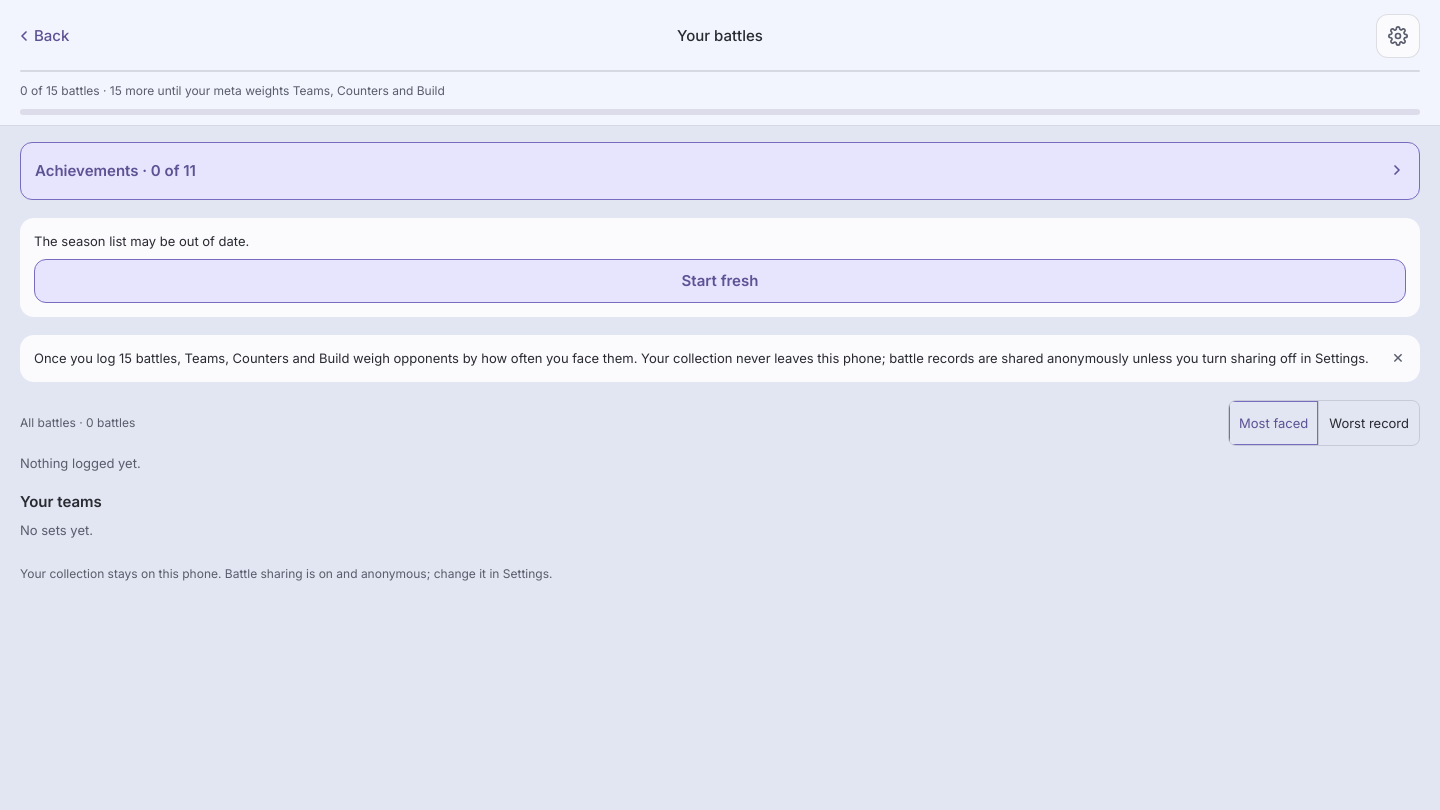
Test: Your battles screen › confirms Start fresh in a sheet with the default tone, then moves the battles
Click the button "Start fresh" at (720, 281), box [34, 259, 1406, 303]
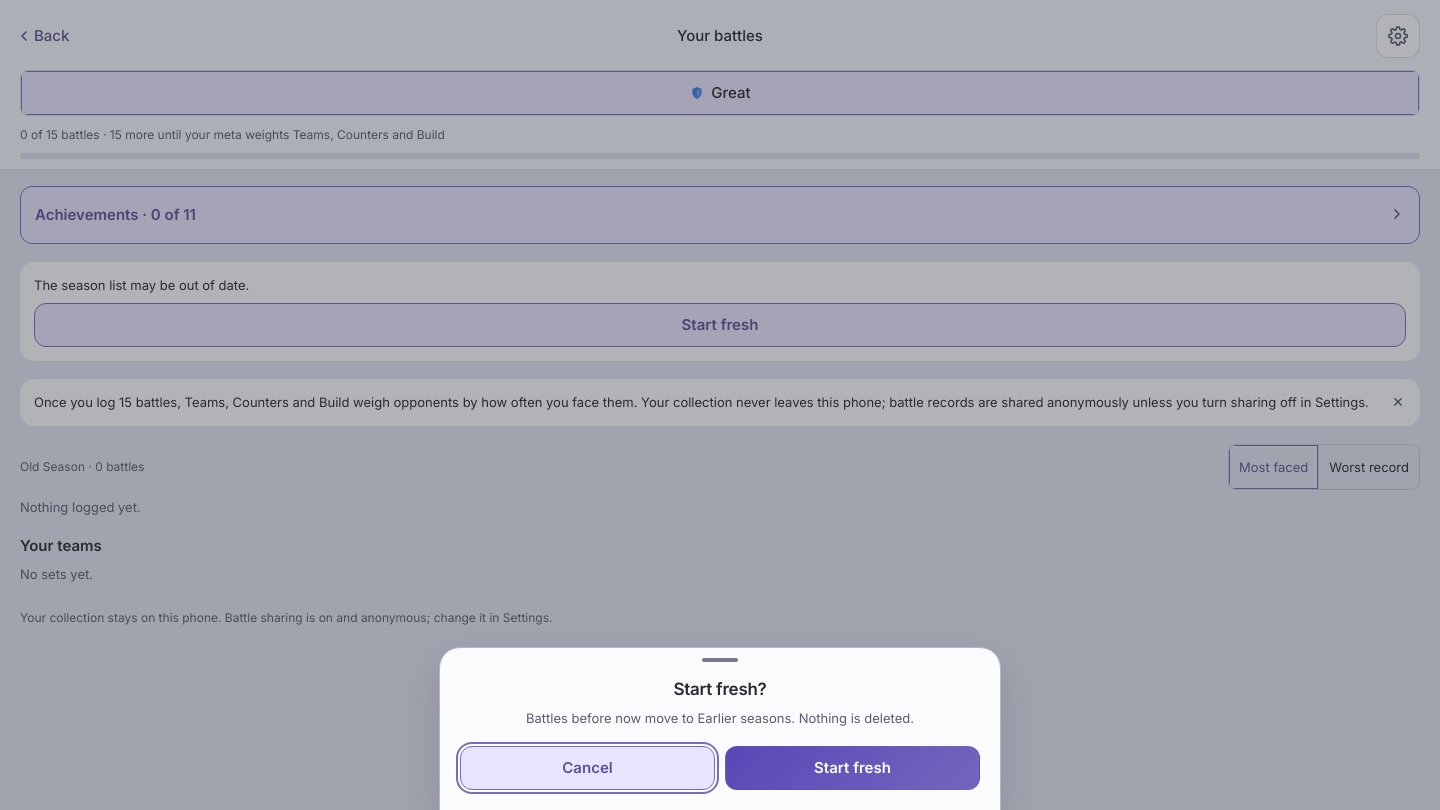
Check: the dialog "Start fresh?" shows "Battles before now move to Earlier seasons. Nothing is deleted.", box [526, 710, 914, 726]
Click the button "Start fresh" at (852, 768), box [725, 746, 980, 790]
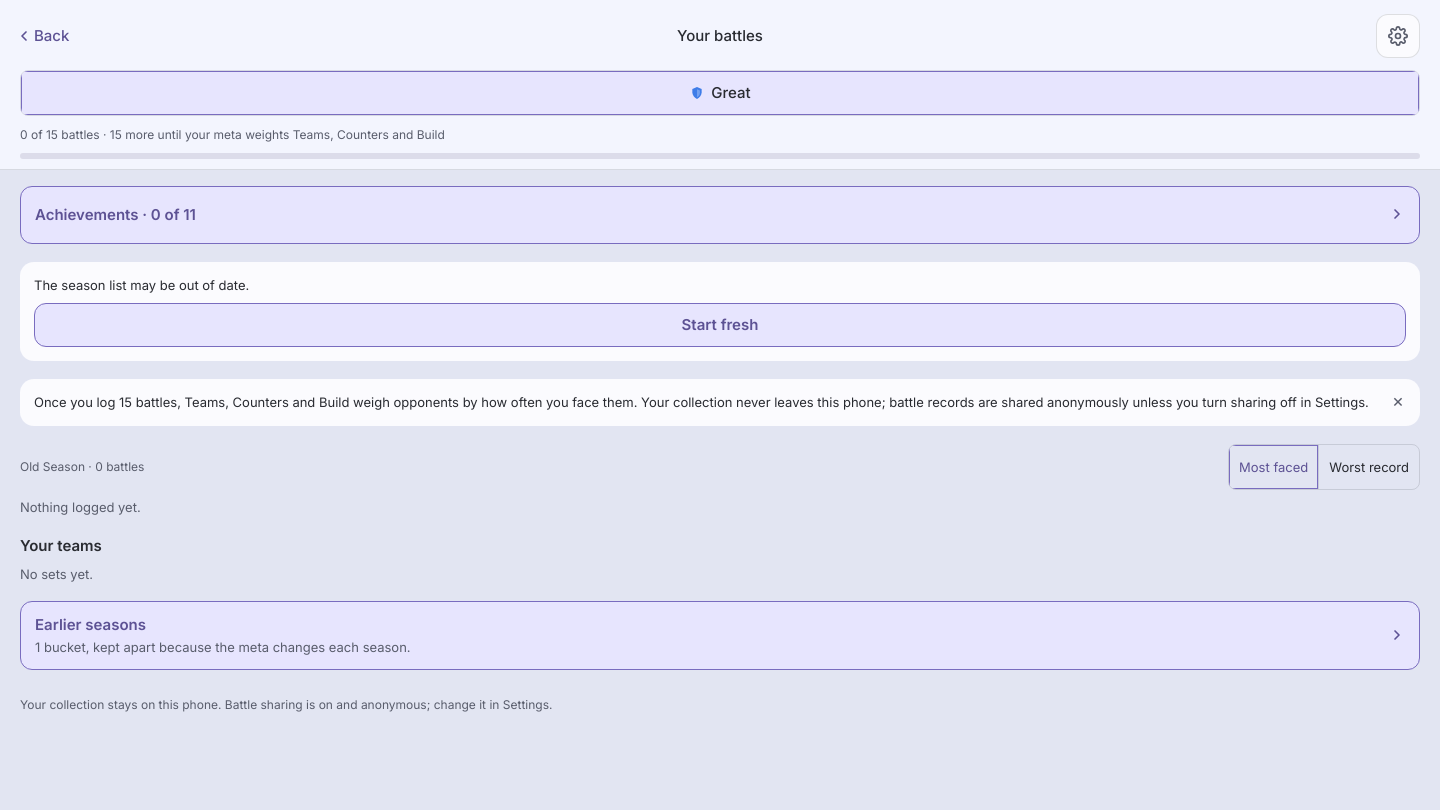
Check: the dialog is gone
Check: the button "Earlier seasons" is shown, box [20, 601, 1420, 670]
